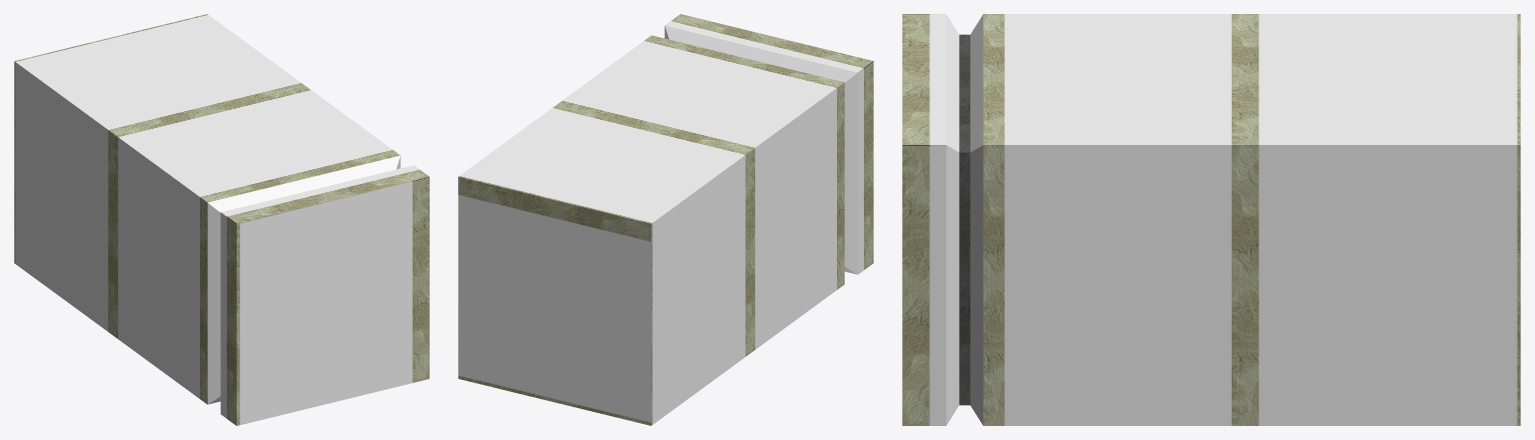
3 views of the same model, side by side, from view 1: azimuth 30°, elevation 25°; view 2: azimuth 150°, elevation 25°; view 3: azimuth 270°, elevation 25° (orthographic). The views are drawn at different scales.
Visible parts, largest first — view 1: Cube_Cube_None_QuartoPieces.png; view 2: Cube_Cube_None_QuartoPieces.png; view 3: Cube_Cube_None_QuartoPieces.png.
Part boxes in pixels (box(x1,y1,x2,y2)): Cube_Cube_None_QuartoPieces.png: box(14, 14, 429, 425); Cube_Cube_None_QuartoPieces.png: box(458, 14, 873, 425); Cube_Cube_None_QuartoPieces.png: box(902, 14, 1520, 425).
Size of the model in its own units: 2 by 2 by 3.99.
